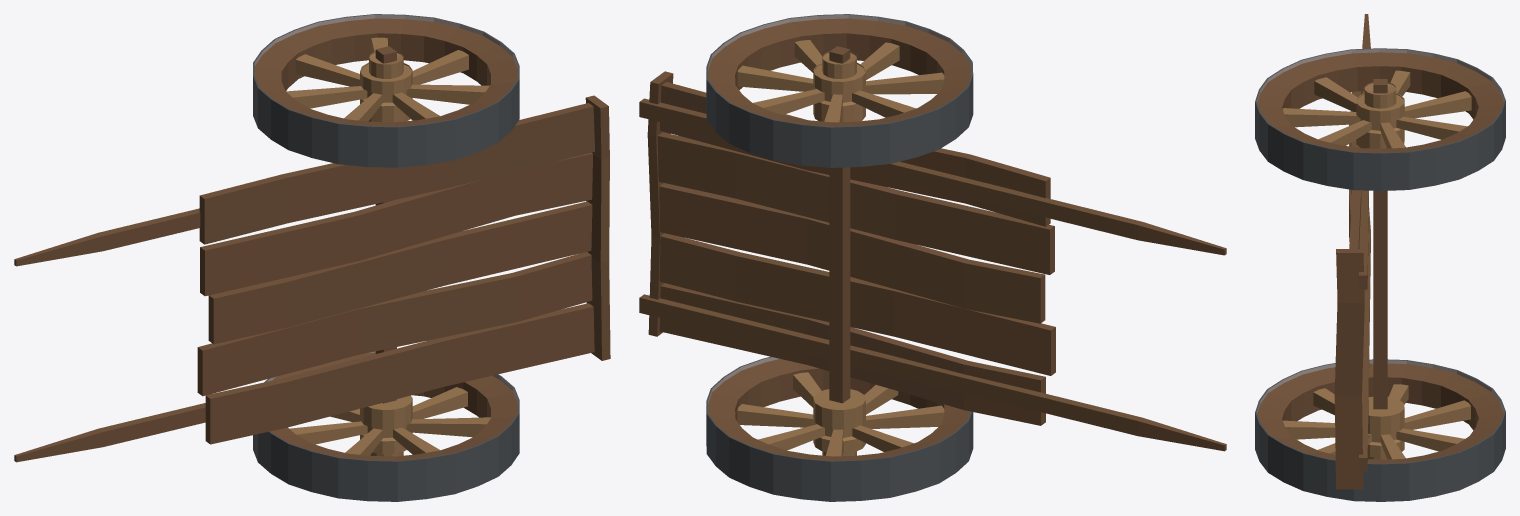
Rendered from Cart_01.fbx.
3 views of the same model, side by side, from view 1: azimuth 30°, elevation 25°; view 2: azimuth 150°, elevation 25°; view 3: azimuth 270°, elevation 25° (orthographic). The views are drawn at different scales.
Visible parts, largest first — view 1: Cart_1.0_LOW.001; view 2: Cart_1.0_LOW.001; view 3: Cart_1.0_LOW.001.
Boxes of the visible parts, box(x1,y1,x2,y2) form: Cart_1.0_LOW.001: box(14, 14, 610, 501); Cart_1.0_LOW.001: box(639, 14, 1226, 501); Cart_1.0_LOW.001: box(1255, 14, 1505, 501).
Size of the model in its own units: 181 by 122 by 72.25.
